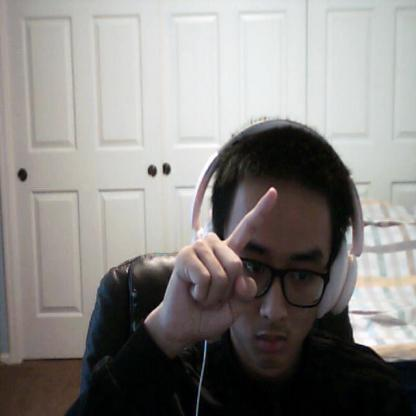finger_point: (222, 184, 280, 249)
